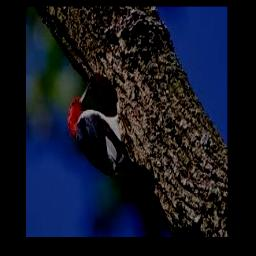Woodpecker: (68, 82, 155, 204)
